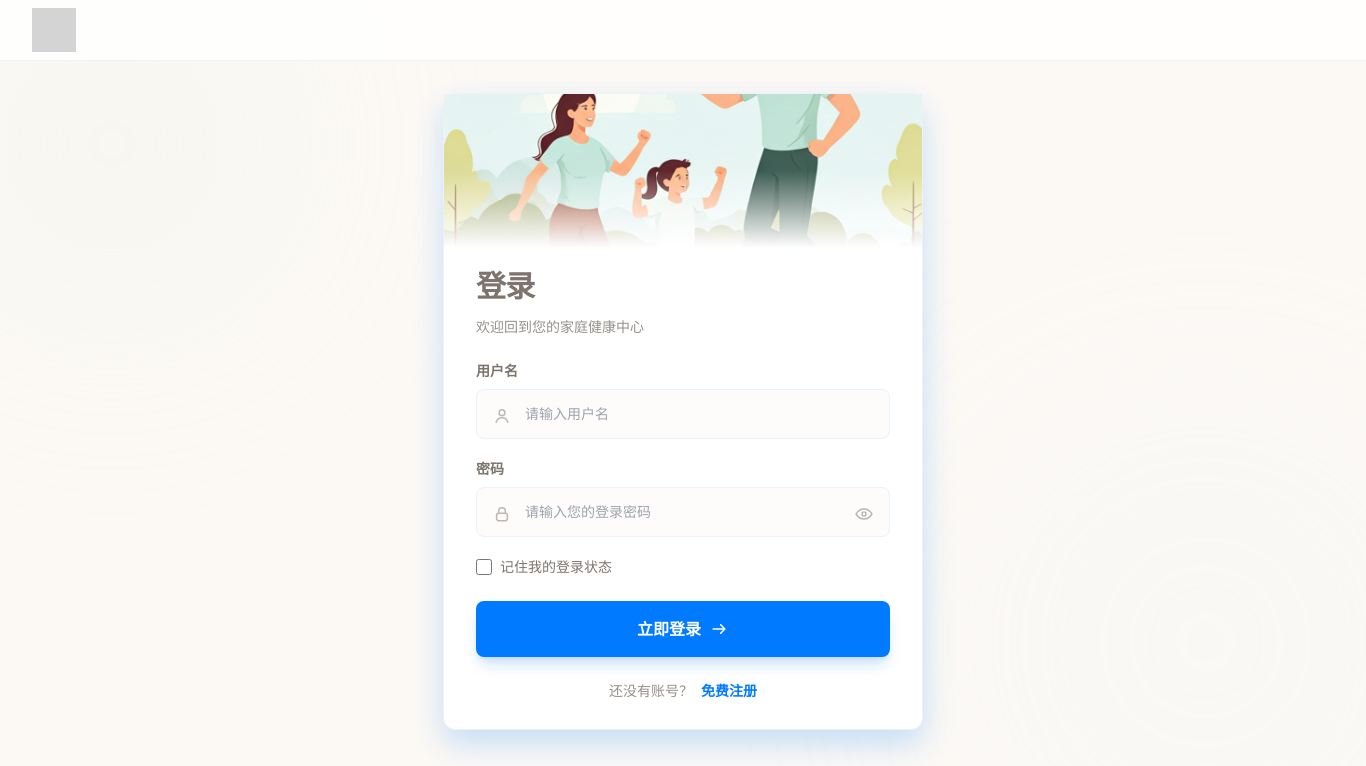
Test: App › submits remember_me when the login checkbox is selected
Type "管理员" into the field labelled "用户名".
click(683, 414); type("管理员")  # box x1=476 y1=389 x2=890 y2=439
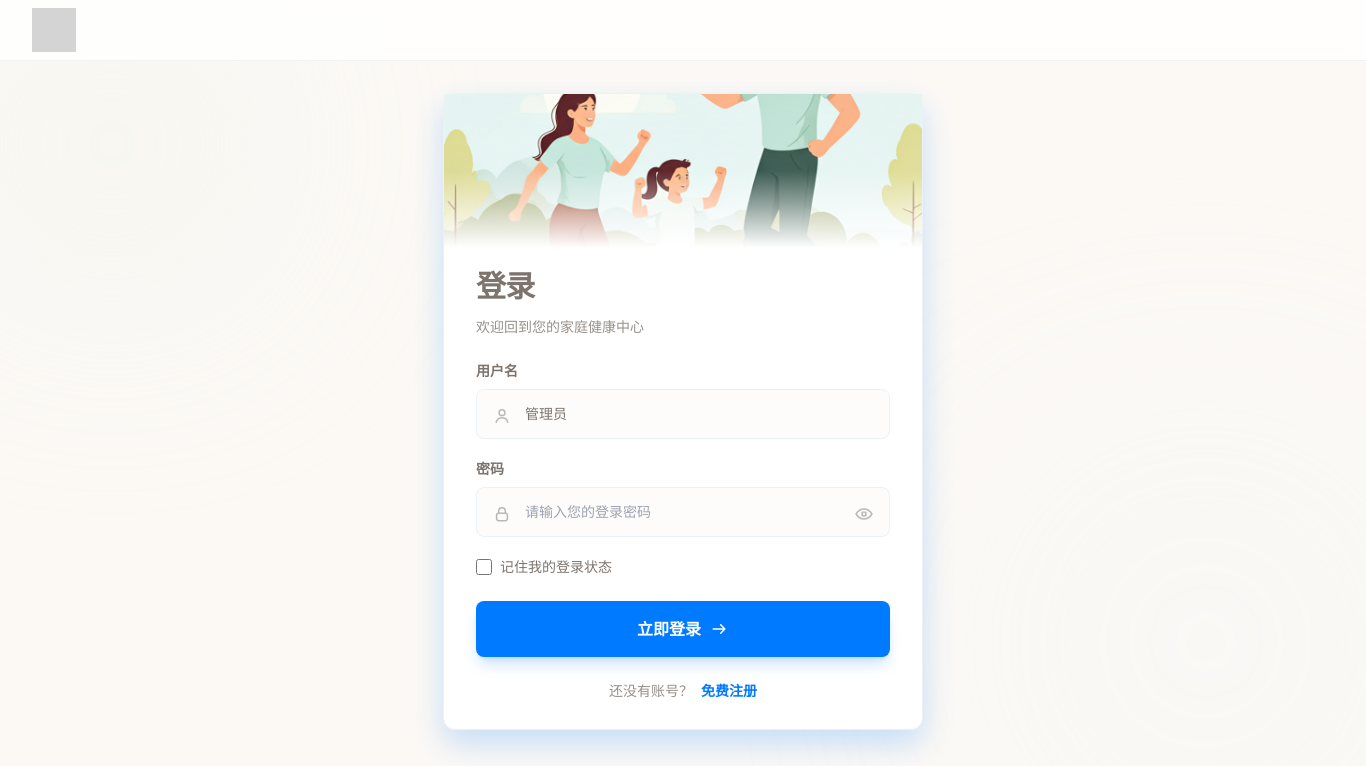
Type "Secret123!" into the password field labelled "密码".
click(683, 512); type("Secret123!")  # box x1=476 y1=487 x2=890 y2=537
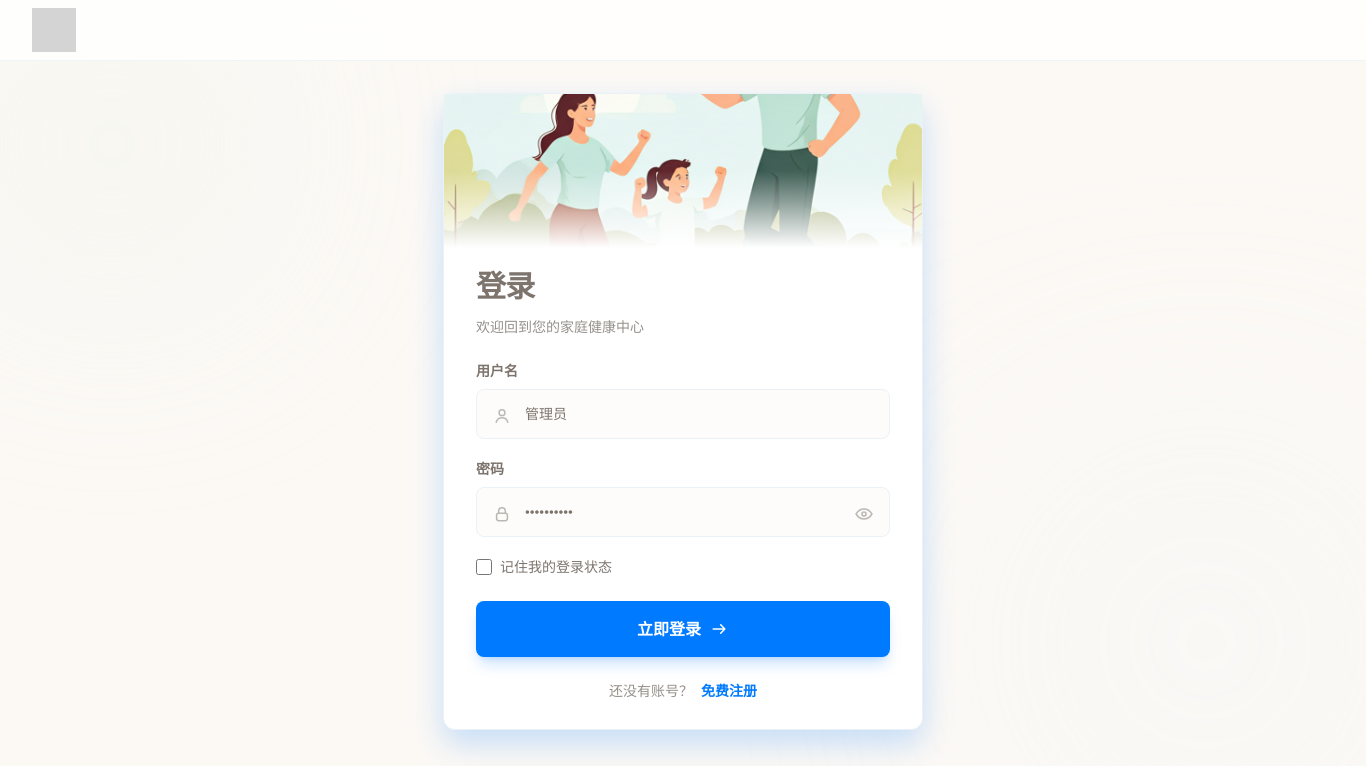
Click the checkbox labelled "记住我的登录状态".
click(484, 567)  # box x1=476 y1=559 x2=492 y2=575
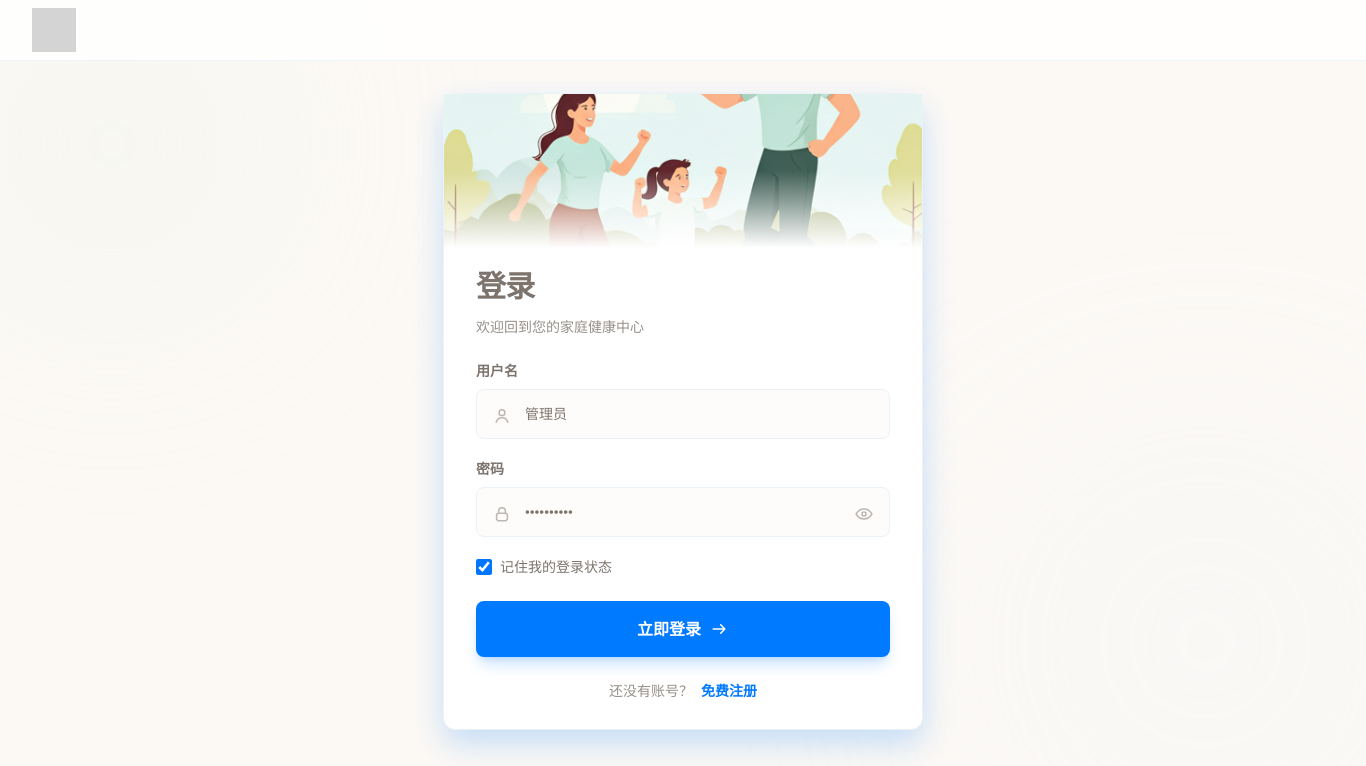
Click the button "立即登录".
click(683, 629)  # box x1=476 y1=601 x2=890 y2=657
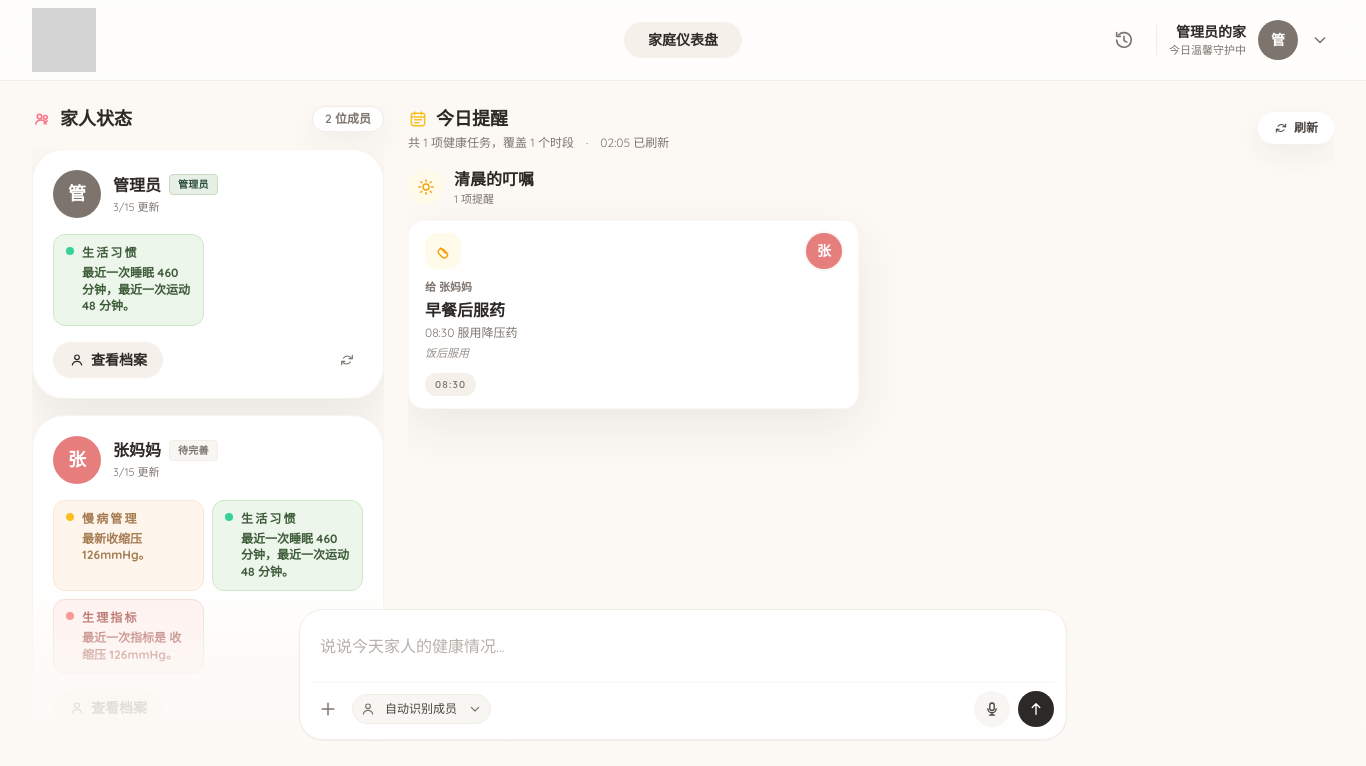
Expected: the heading "家人状态" is shown, x1=32 y1=105 x2=132 y2=133
